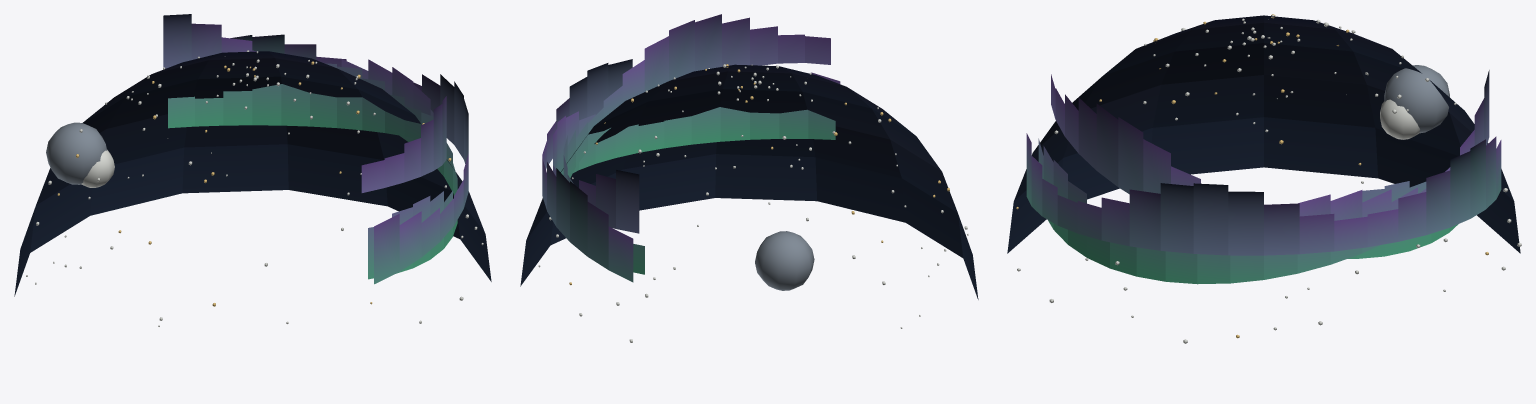
The model's file is sky-aurora-night-dome.glb.
3 renders of one model, left to right at view 1: azimuth 30°, elevation 25°; view 2: azimuth 150°, elevation 25°; view 3: azimuth 270°, elevation 25°, orthographic. The views are drawn at different scales.
Parts seen in each view (by area): view 1: sky_aurora_night_dome; view 2: sky_aurora_night_dome; view 3: sky_aurora_night_dome.
Boxes of the visible parts, x1,y1,x2,y2 form: sky_aurora_night_dome: [14, 14, 491, 326]; sky_aurora_night_dome: [520, 14, 978, 342]; sky_aurora_night_dome: [1007, 14, 1521, 343].
Size of the model in its own units: 5.2 by 2.62 by 5.08.
